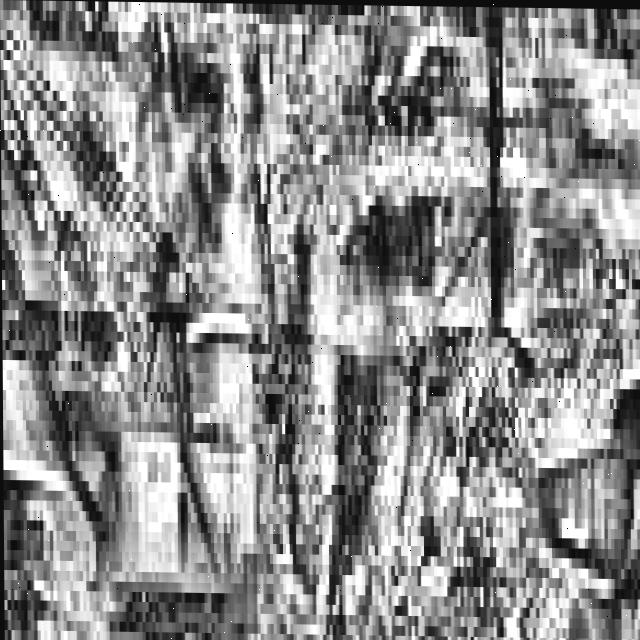dump_truck: (523, 166, 640, 640)
